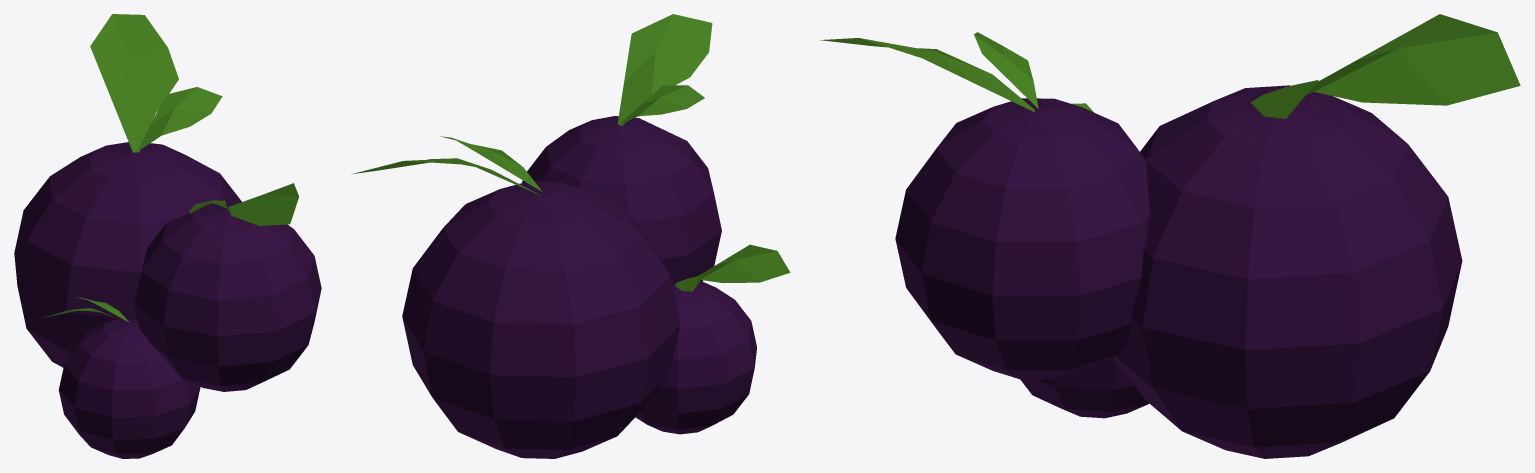
File: variosAcai.fbx
3 renders of one model, left to right at view 1: azimuth 30°, elevation 25°; view 2: azimuth 150°, elevation 25°; view 3: azimuth 270°, elevation 25°, orthographic. The views are drawn at different scales.
Parts seen in each view (by area): view 1: variosAcai; view 2: variosAcai; view 3: variosAcai.
Boxes of the visible parts, left/top/right/bottom form: variosAcai: left=14, top=14, right=321, bottom=458; variosAcai: left=351, top=14, right=790, bottom=458; variosAcai: left=820, top=14, right=1520, bottom=458.
Bounding box in the file's own units: 42.06 × 46.47 × 64.05.
